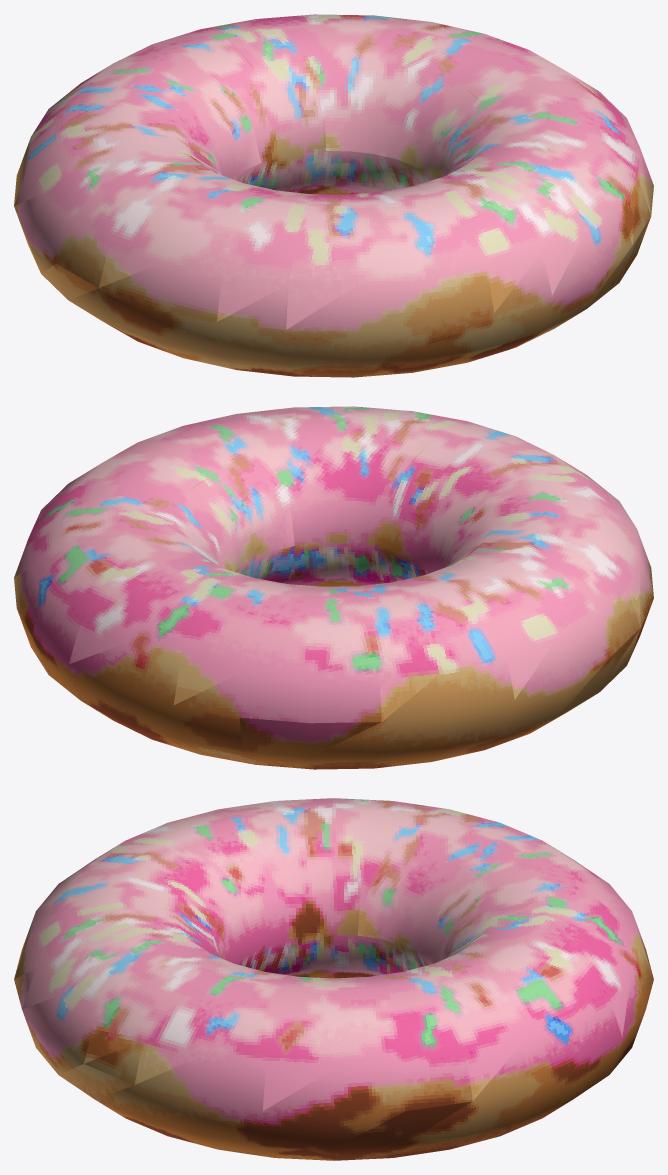
File: donut_seat_own.glb
3 views of the same model, one above another, from view 1: azimuth 30°, elevation 25°; view 2: azimuth 150°, elevation 25°; view 3: azimuth 270°, elevation 25° (orthographic).
Parts seen in each view (by area): view 1: mesh; view 2: mesh; view 3: mesh.
Part boxes in pixels (bbox=[...]): mesh: bbox=[14, 14, 653, 377]; mesh: bbox=[14, 406, 653, 769]; mesh: bbox=[14, 798, 653, 1160].
Bounding box in the file's own units: 0.9146 × 0.25 × 0.9146.
Materials: 1 (1 with a texture image).
